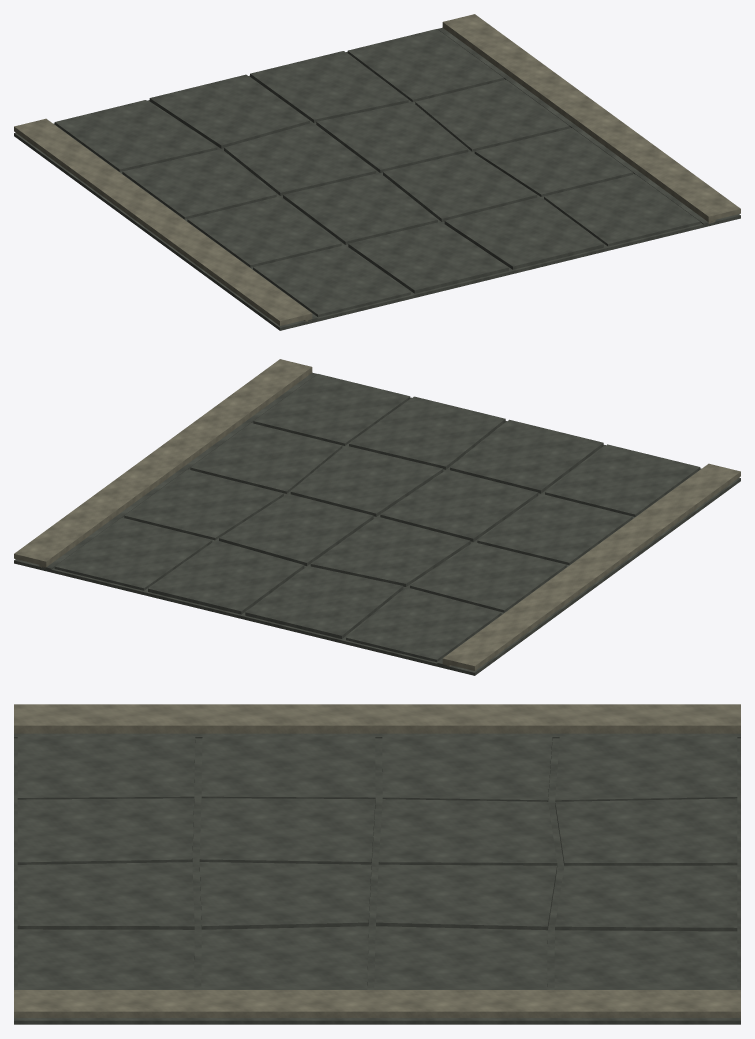
The model's file is basalt_road_lod2.glb.
3 views of the same model, one above another, from view 1: azimuth 30°, elevation 25°; view 2: azimuth 150°, elevation 25°; view 3: azimuth 270°, elevation 25° (orthographic). The views are drawn at different scales.
Visible parts, largest first — view 1: basalt_road_lod2; view 2: basalt_road_lod2; view 3: basalt_road_lod2.
Boxes of the visible parts, x1,y1,x2,y2 form: basalt_road_lod2: (14, 14, 740, 330); basalt_road_lod2: (14, 359, 740, 675); basalt_road_lod2: (14, 704, 740, 1024).
Bounding box in the file's own units: 8 × 0.16 × 8.
2 materials, 2 textured.
